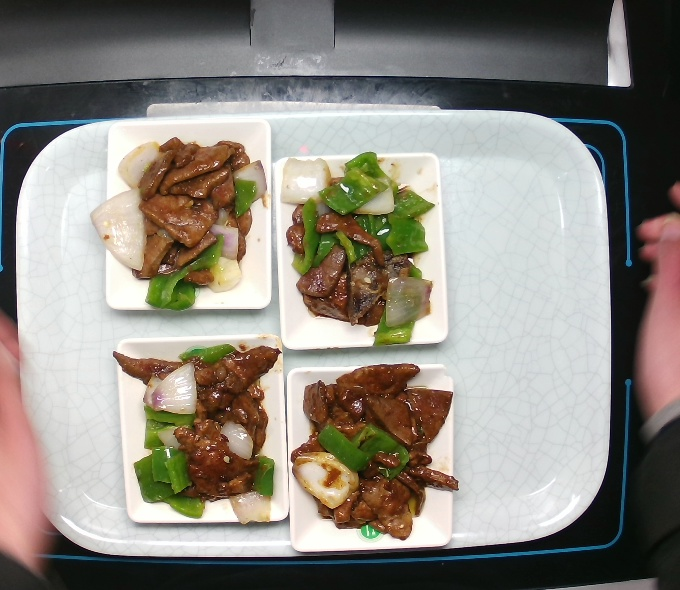wcq-ZhuGan: (106, 335, 288, 524), (289, 357, 460, 541), (280, 150, 438, 348), (93, 130, 264, 311)
